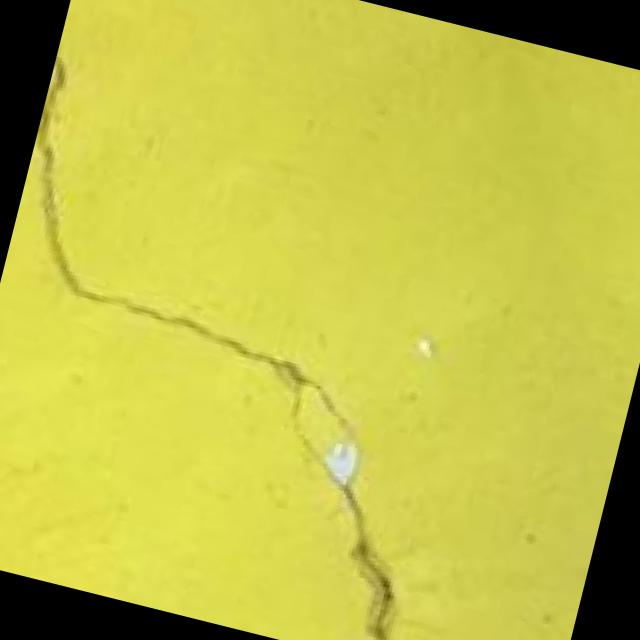crack: (0, 41, 556, 640)
